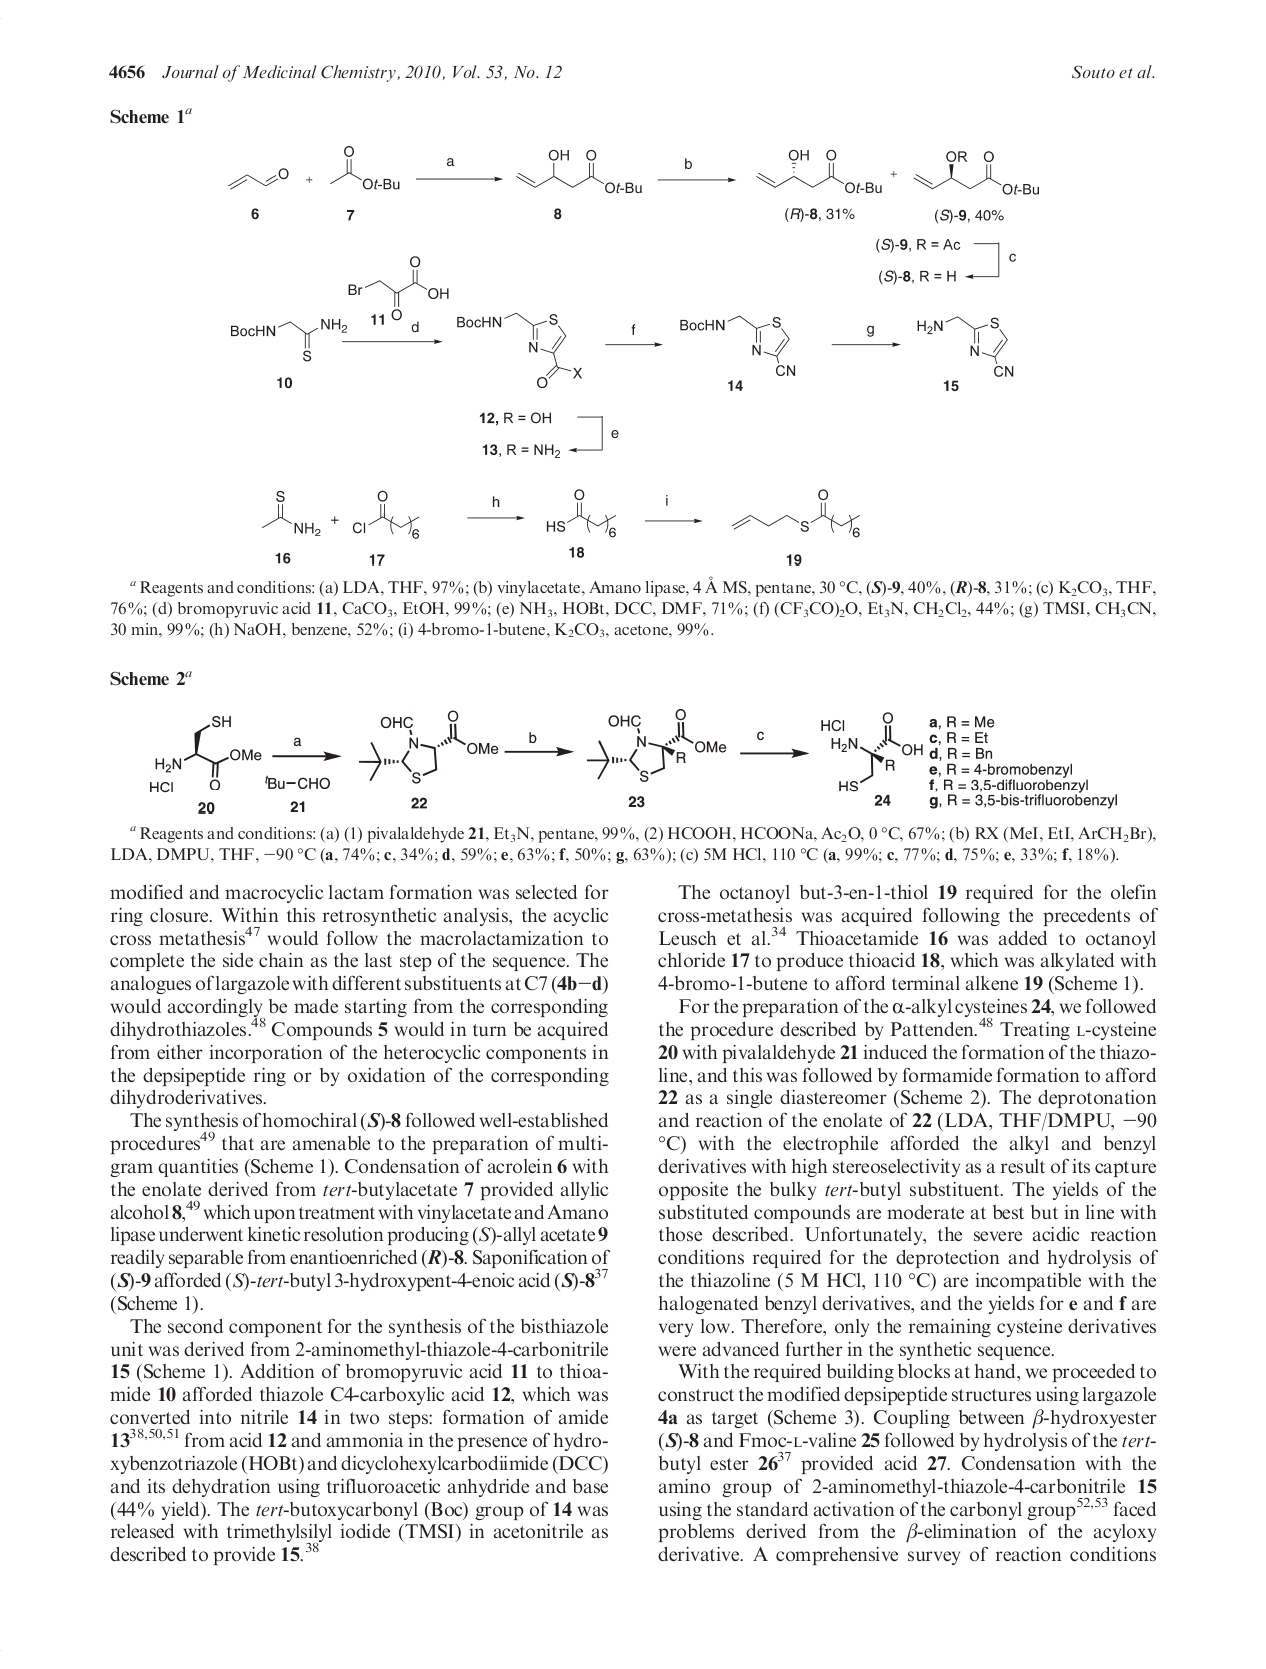exist_molecular: (352, 709, 500, 789), (581, 707, 727, 781), (455, 311, 585, 390), (817, 704, 926, 794), (148, 714, 265, 797), (680, 303, 801, 378), (730, 487, 866, 543), (755, 144, 884, 201), (347, 253, 453, 322), (912, 311, 1019, 378), (912, 146, 1043, 199), (515, 148, 644, 198), (227, 318, 352, 364), (543, 487, 621, 540), (326, 144, 402, 195), (352, 489, 426, 541), (262, 489, 324, 541), (222, 164, 294, 193)
